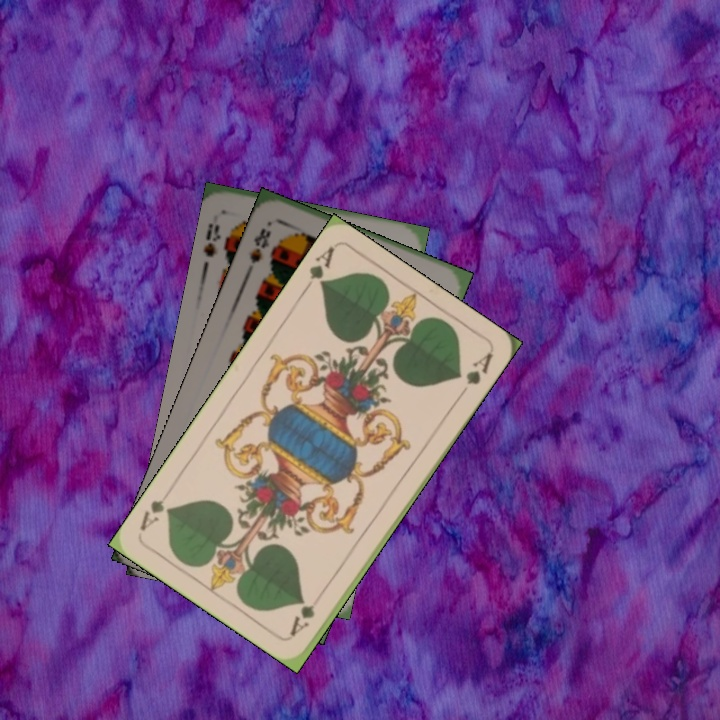GA: (298, 242, 338, 296), (286, 587, 326, 638)
S8: (244, 224, 274, 274), (199, 219, 223, 260)
